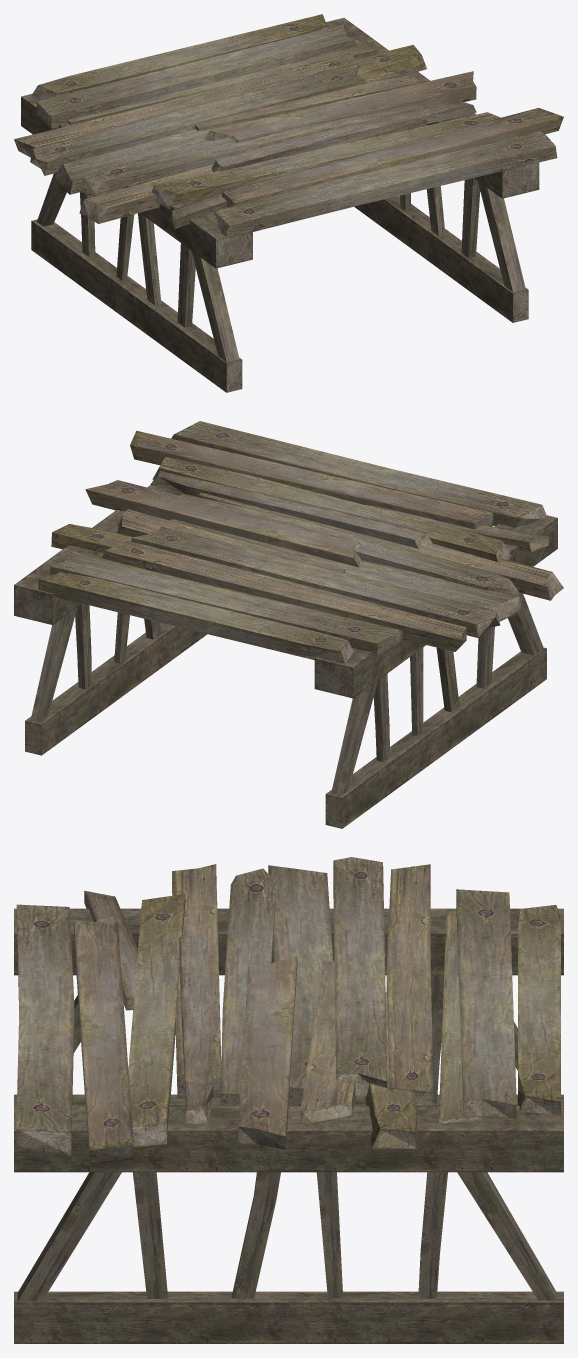
The model's file is bg_lut_common_fishery01b_sm_bjh.FBX.
3 views of the same model, one above another, from view 1: azimuth 30°, elevation 25°; view 2: azimuth 150°, elevation 25°; view 3: azimuth 270°, elevation 25° (orthographic). The views are drawn at different scales.
Visible parts, largest first — view 1: bg_lut_common_fishery01b_sm_bjh; view 2: bg_lut_common_fishery01b_sm_bjh; view 3: bg_lut_common_fishery01b_sm_bjh.
Part boxes in pixels (x1=…): bg_lut_common_fishery01b_sm_bjh: x1=14, y1=14, x2=563, y2=392; bg_lut_common_fishery01b_sm_bjh: x1=14, y1=421, x2=563, y2=828; bg_lut_common_fishery01b_sm_bjh: x1=14, y1=857, x2=563, y2=1343.
Bounding box in the file's own units: 375 × 138 × 288.
